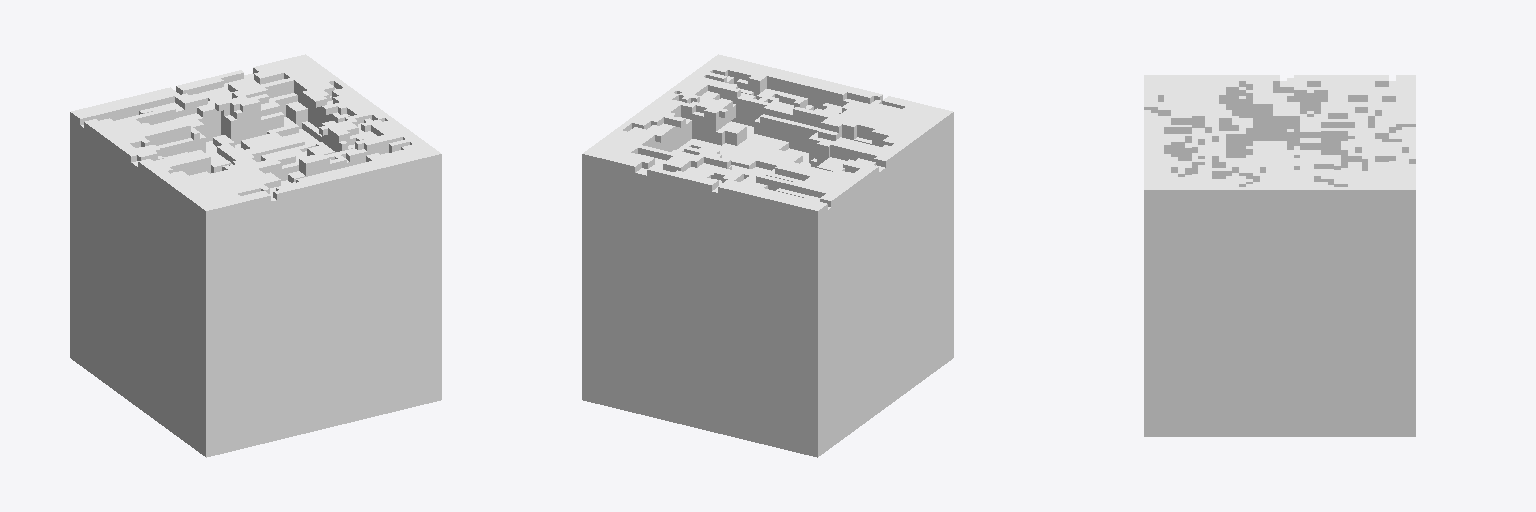
File: floor3.vox.obj
3 views of the same model, side by side, from view 1: azimuth 30°, elevation 25°; view 2: azimuth 150°, elevation 25°; view 3: azimuth 270°, elevation 25° (orthographic).
Parts seen in each view (by area): view 1: object 1; view 2: object 1; view 3: object 1.
Part boxes in pixels (left/top/right/bottom): object 1: left=70, top=54, right=441, bottom=457; object 1: left=582, top=54, right=953, bottom=457; object 1: left=1144, top=75, right=1415, bottom=436.
Size of the model in its own units: 4 by 4 by 4.